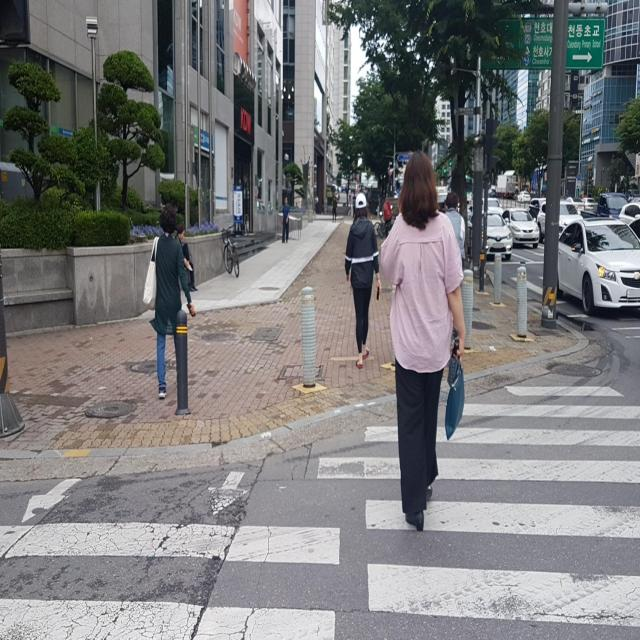횡단보도: (0, 383, 640, 640)
